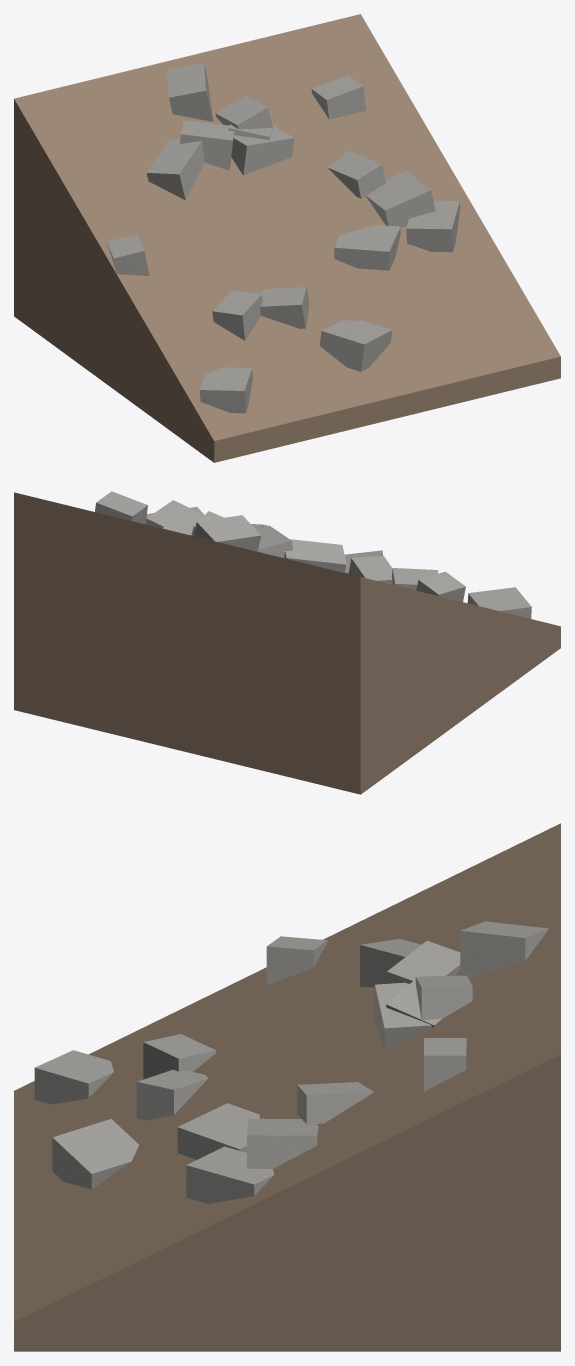
File: andean-terraces-and-stone-village-scree-slope-fba0a921__38228.glb
3 views of the same model, one above another, from view 1: azimuth 30°, elevation 25°; view 2: azimuth 150°, elevation 25°; view 3: azimuth 270°, elevation 25° (orthographic). The views are drawn at different scales.
Visible parts, largest first — view 1: scree-slope-earth, scree-slope-stone; view 2: scree-slope-earth, scree-slope-stone; view 3: scree-slope-earth, scree-slope-stone.
Boxes of the visible parts, bbox=[...] form: scree-slope-earth: bbox=[14, 14, 560, 462]; scree-slope-stone: bbox=[106, 62, 460, 413]; scree-slope-earth: bbox=[14, 492, 560, 794]; scree-slope-stone: bbox=[95, 491, 531, 618]; scree-slope-earth: bbox=[14, 823, 560, 1351]; scree-slope-stone: bbox=[34, 921, 548, 1203].
Bounding box in the file's own units: 4.03 × 2.43 × 4.
2 materials, 1 textured.
